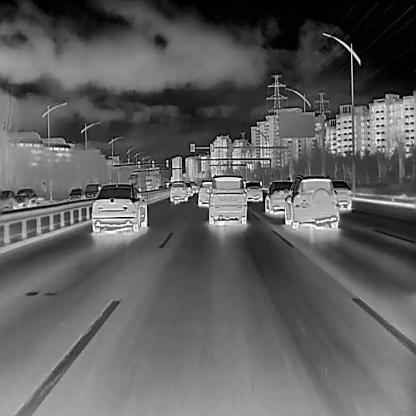car: (283, 175, 338, 228), (90, 182, 148, 232), (204, 172, 248, 224), (264, 179, 295, 215), (328, 177, 353, 210), (196, 179, 214, 207), (12, 186, 36, 207), (168, 180, 188, 202), (243, 178, 262, 201), (127, 172, 146, 190), (83, 183, 103, 200), (0, 188, 15, 209), (144, 172, 158, 190), (67, 187, 85, 201), (184, 180, 193, 196), (188, 182, 197, 194)
